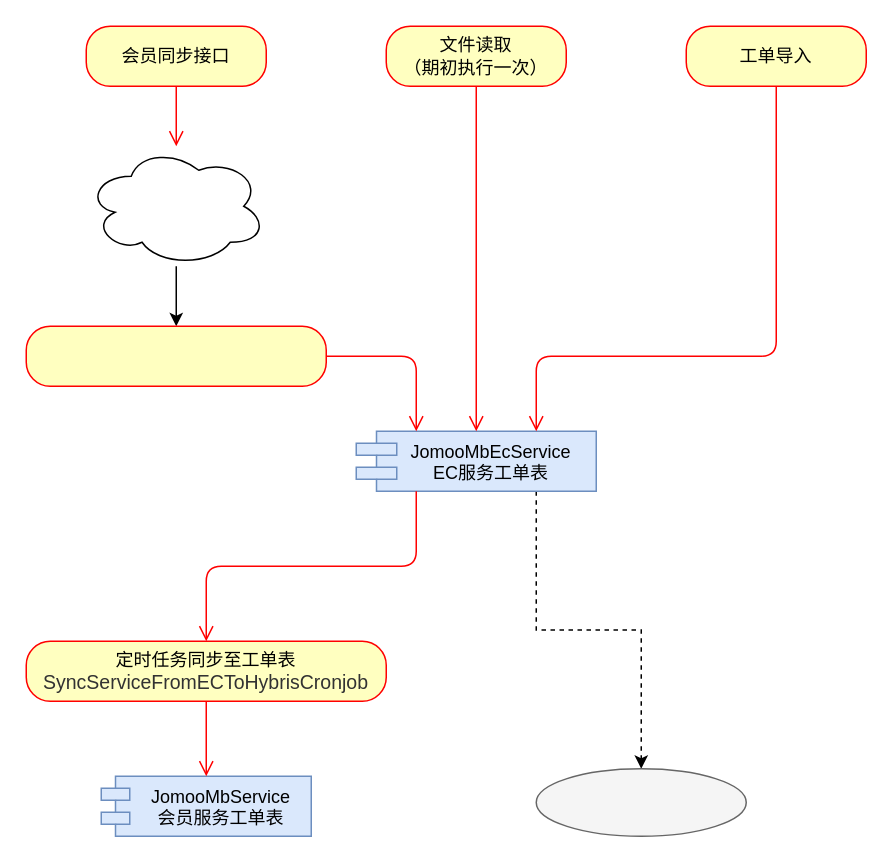
Image size: 893x863. Some labels were removed from this diagram. Here are the shapes that lost their labels. From the top down, the box of each, then its label:
(85, 145, 266, 266): kafka
(25, 325, 326, 386): 消费接口数据 MemberServiceConsumerListener
(535, 767, 746, 836): 界面导出功能
